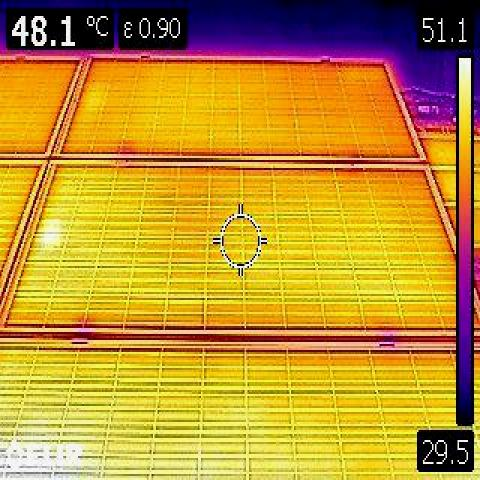fault: (44, 219, 60, 250)
